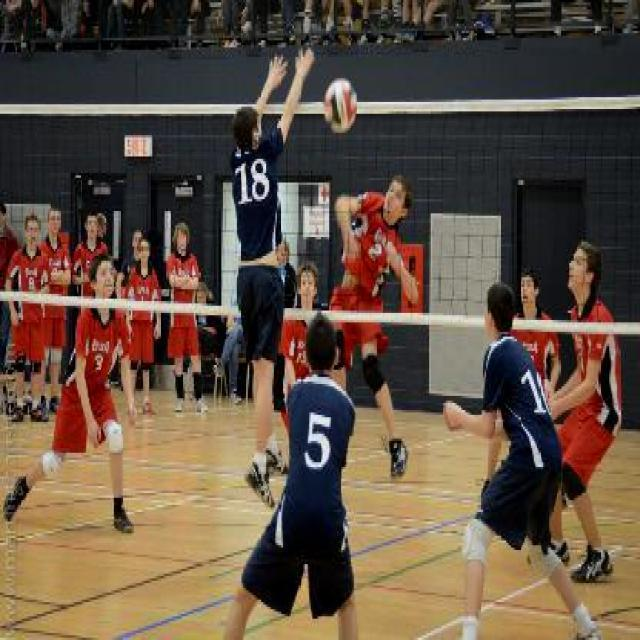volleyball: (324, 79, 357, 132)
